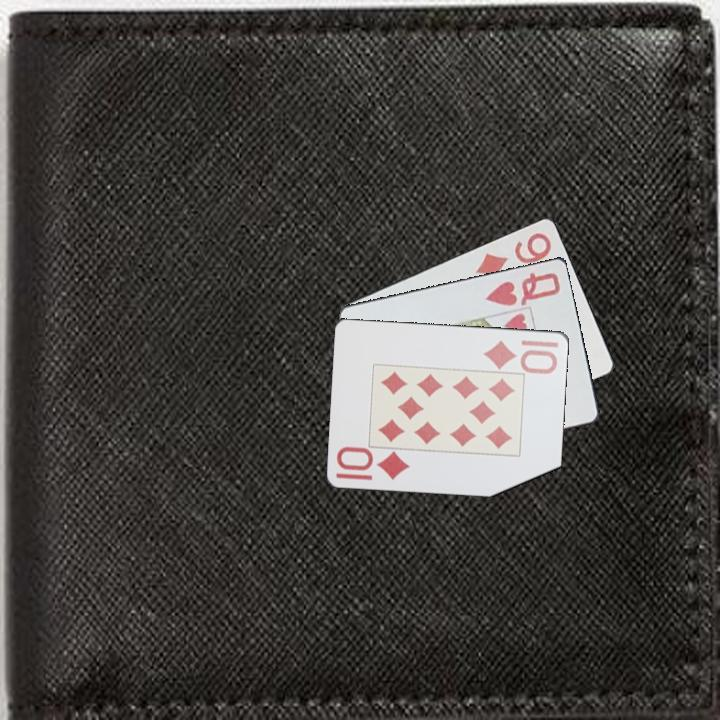9d: (471, 229, 555, 280)
Qh: (482, 265, 565, 309)
Td: (333, 445, 413, 483), (480, 336, 561, 373)
